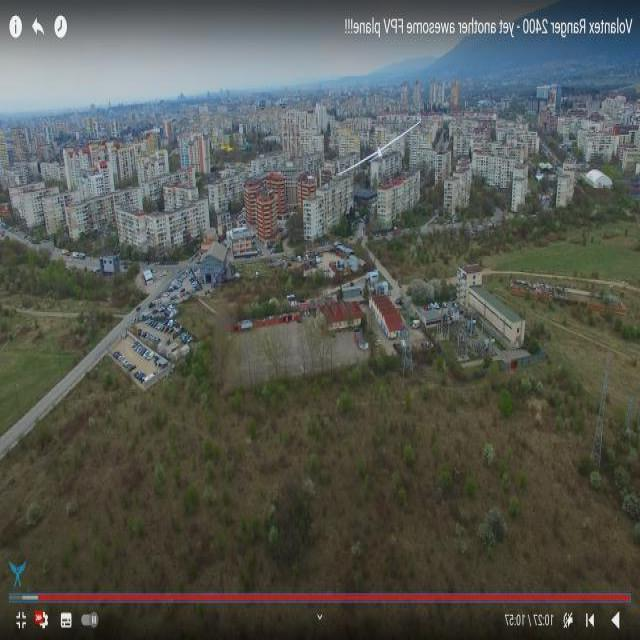iha: (354, 144, 382, 164)
